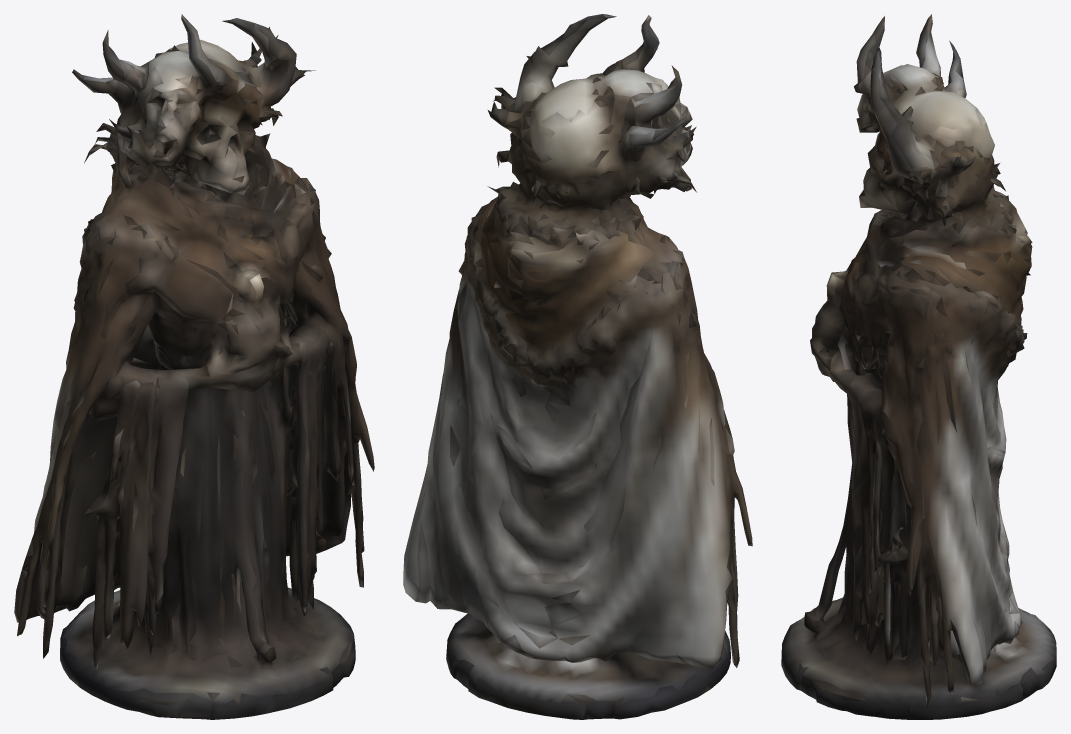
The model's file is McCoy (2)_final.glb.
3 views of the same model, side by side, from view 1: azimuth 30°, elevation 25°; view 2: azimuth 150°, elevation 25°; view 3: azimuth 270°, elevation 25° (orthographic). The views are drawn at different scales.
Visible parts, largest first — view 1: Mesh1.0; view 2: Mesh1.0; view 3: Mesh1.0.
Part boxes in pixels (x1=…): Mesh1.0: x1=14, y1=14, x2=374, y2=719; Mesh1.0: x1=403, y1=14, x2=752, y2=719; Mesh1.0: x1=781, y1=14, x2=1056, y2=719.
Size of the model in its own units: 1.08 by 2 by 0.7948.
1 material, 1 textured.
